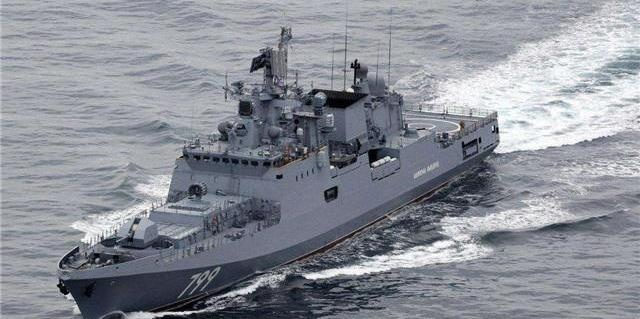warship: (54, 14, 499, 312)
